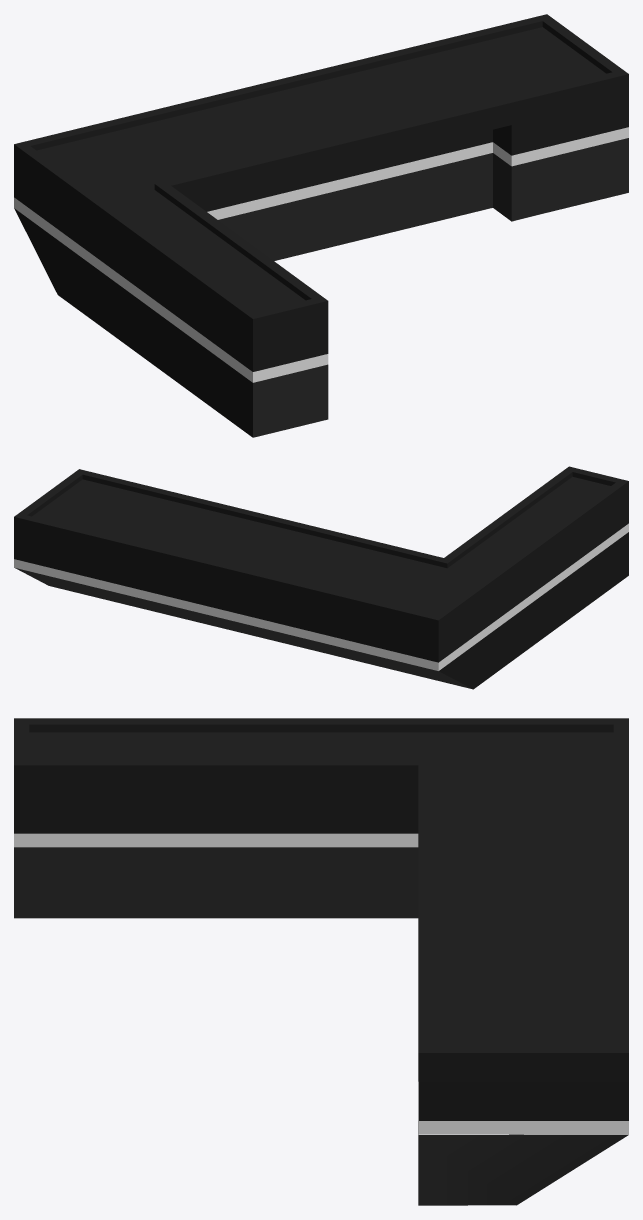
File: escritorio.fbx
3 views of the same model, one above another, from view 1: azimuth 30°, elevation 25°; view 2: azimuth 150°, elevation 25°; view 3: azimuth 270°, elevation 25° (orthographic). The views are drawn at different scales.
Visible parts, largest first — view 1: Escritorio; view 2: Escritorio; view 3: Escritorio.
Boxes of the visible parts, x1=… form: Escritorio: x1=14, y1=14, x2=628, y2=437; Escritorio: x1=14, y1=466, x2=628, y2=689; Escritorio: x1=14, y1=718, x2=628, y2=1205.
Bounding box in the file's own units: 117 × 25.04 × 91.19.
Materials: 1 (1 with a texture image).
